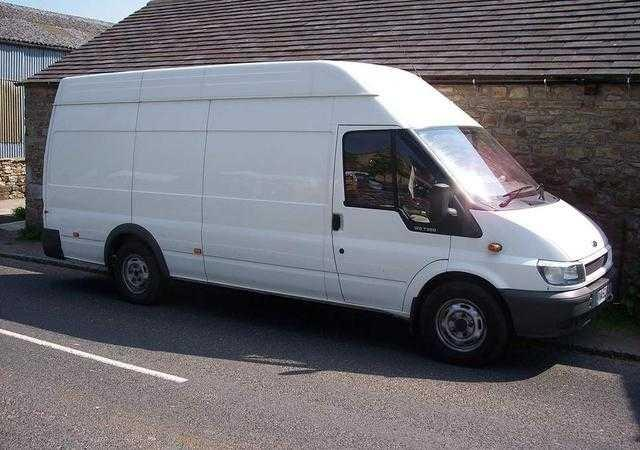car: (40, 55, 640, 372)
